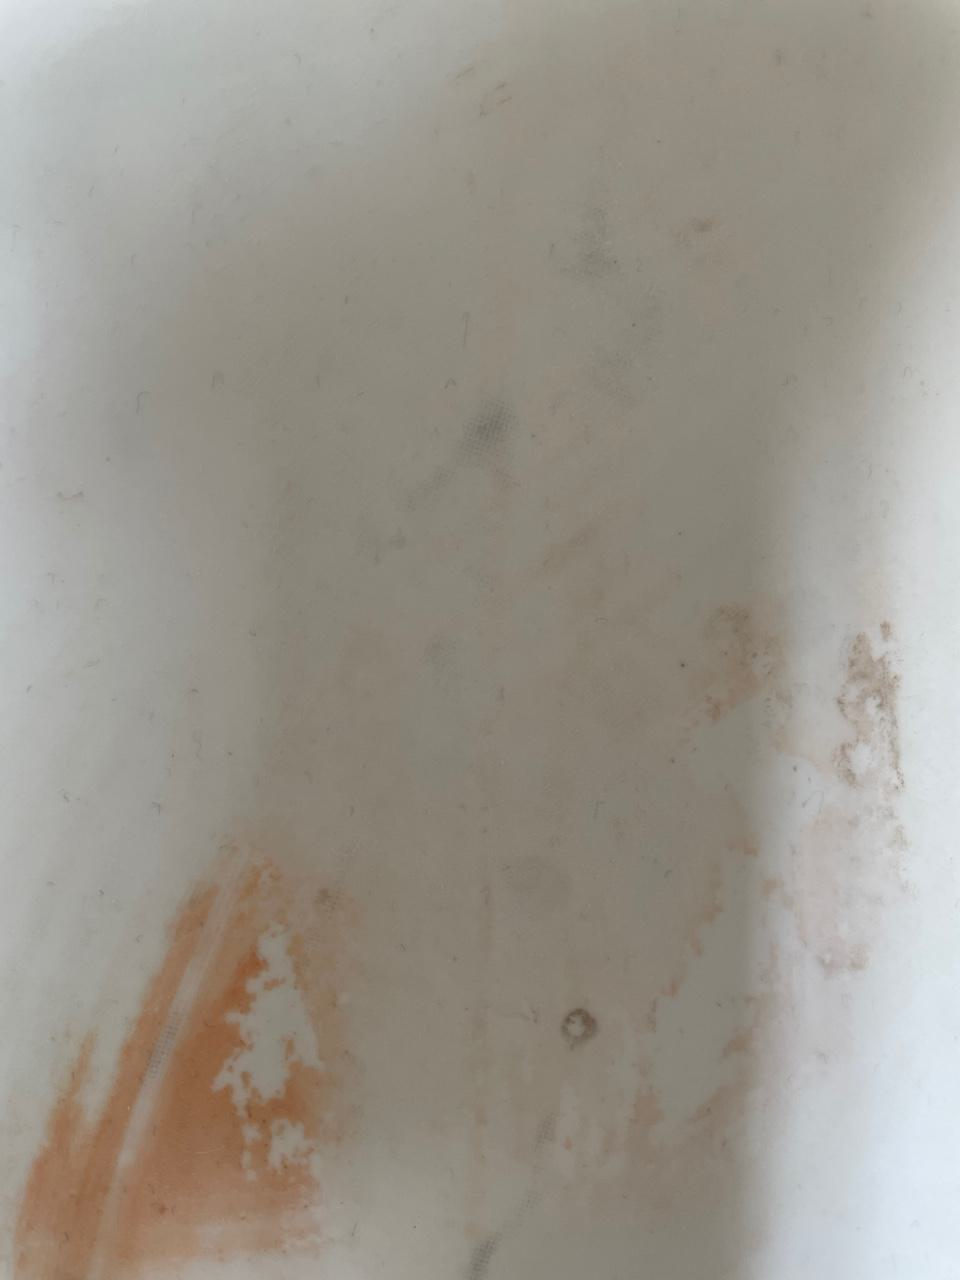Corrosion: (9, 841, 353, 1280)
